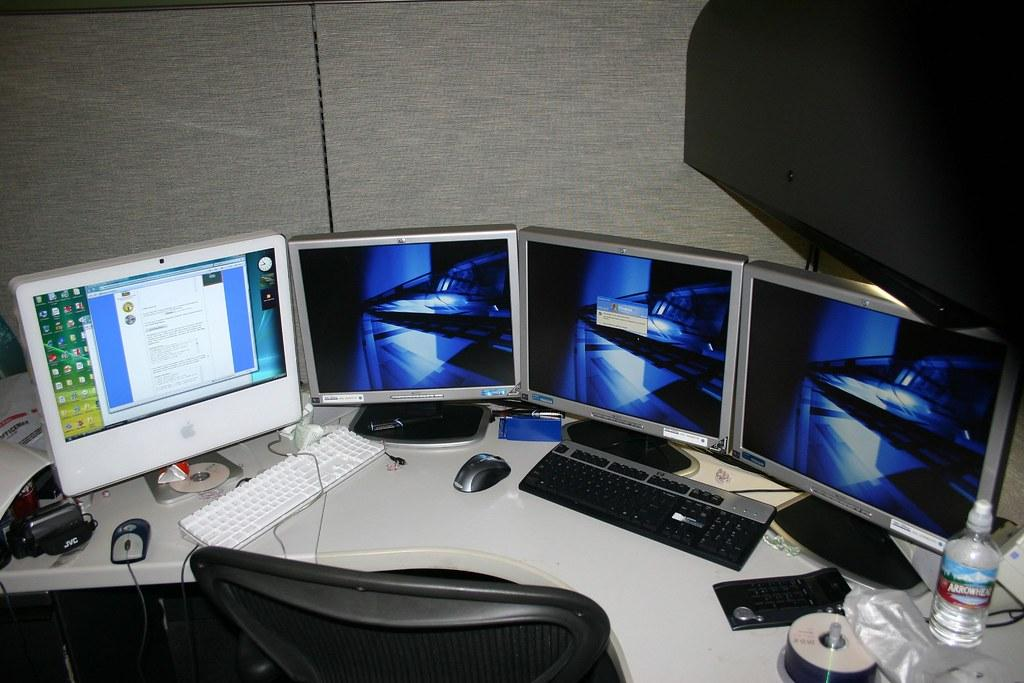computer: (731, 259, 1023, 601), (8, 231, 303, 505), (518, 224, 749, 478), (287, 223, 523, 449)
